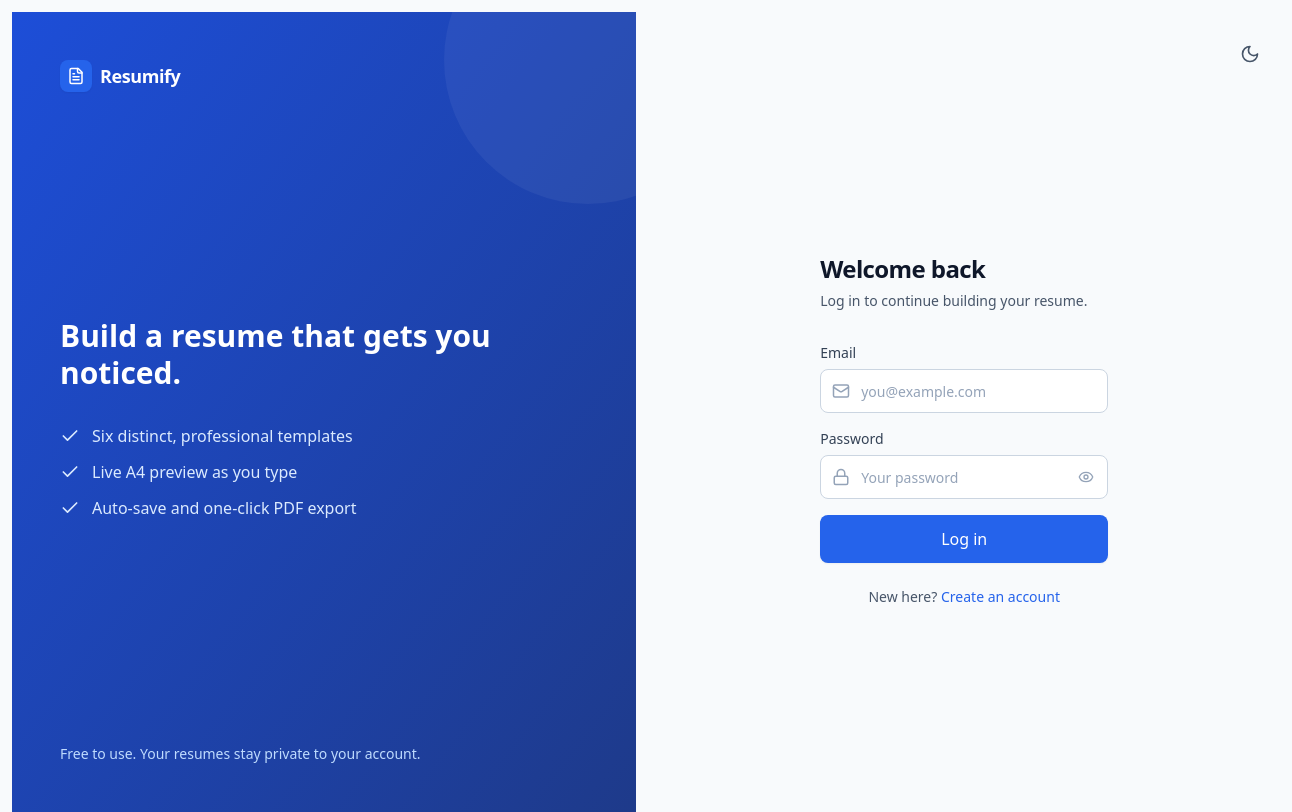
Test: auth forms › login stores the token and redirects on success
The image size is (1292, 812).
Type "uyn@example.com" into the field labelled "Email" at (964, 391), box [820,369,1108,413]
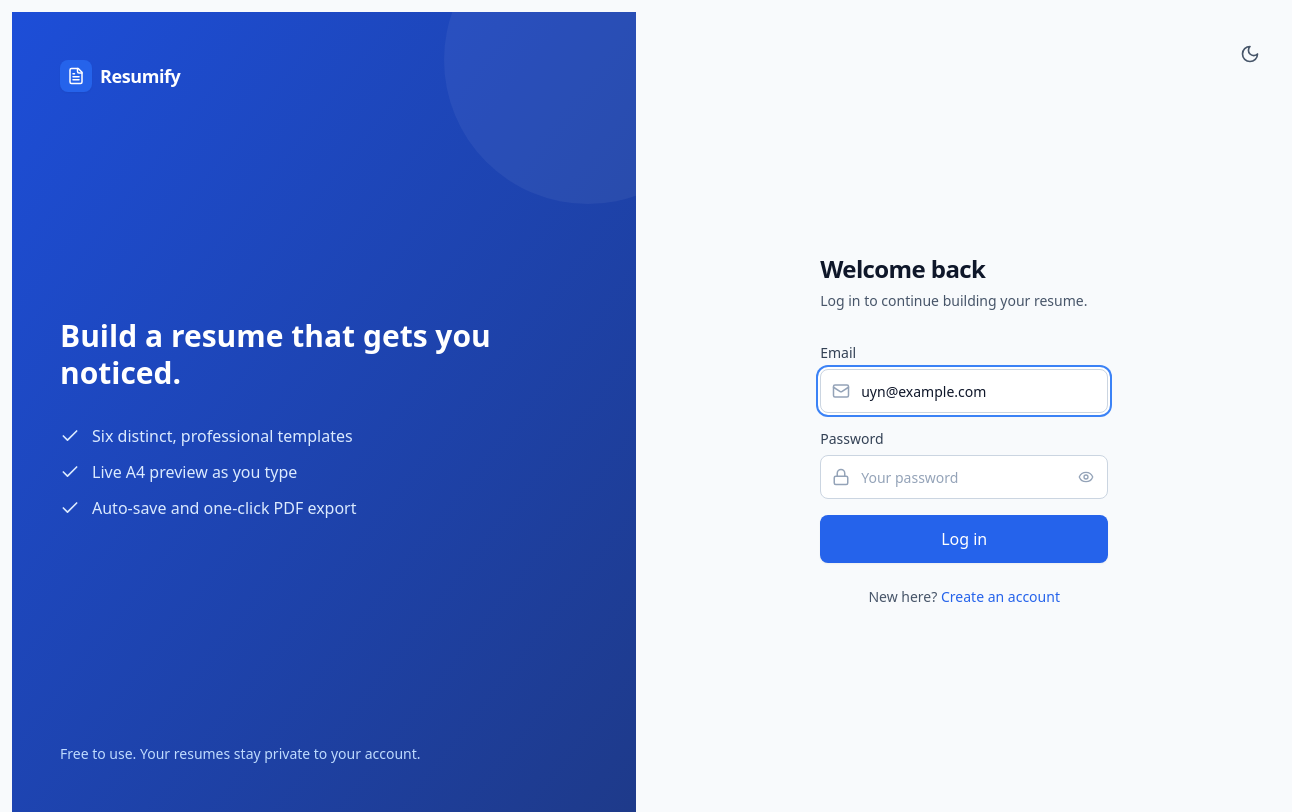
Type "goodpass1" into the password field labelled "Password" at (964, 477), box [820,455,1108,499]
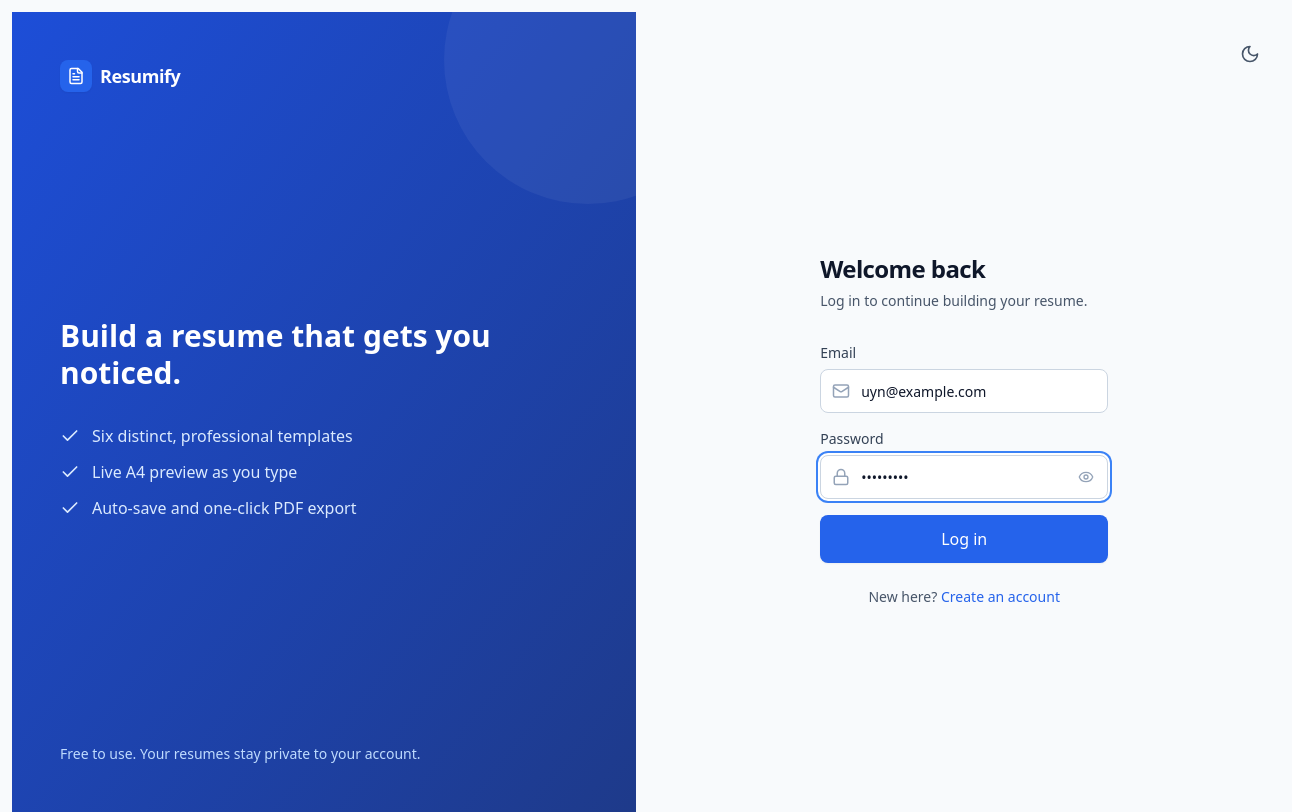
Click the button "Log in" at (964, 539), box [820,515,1108,563]
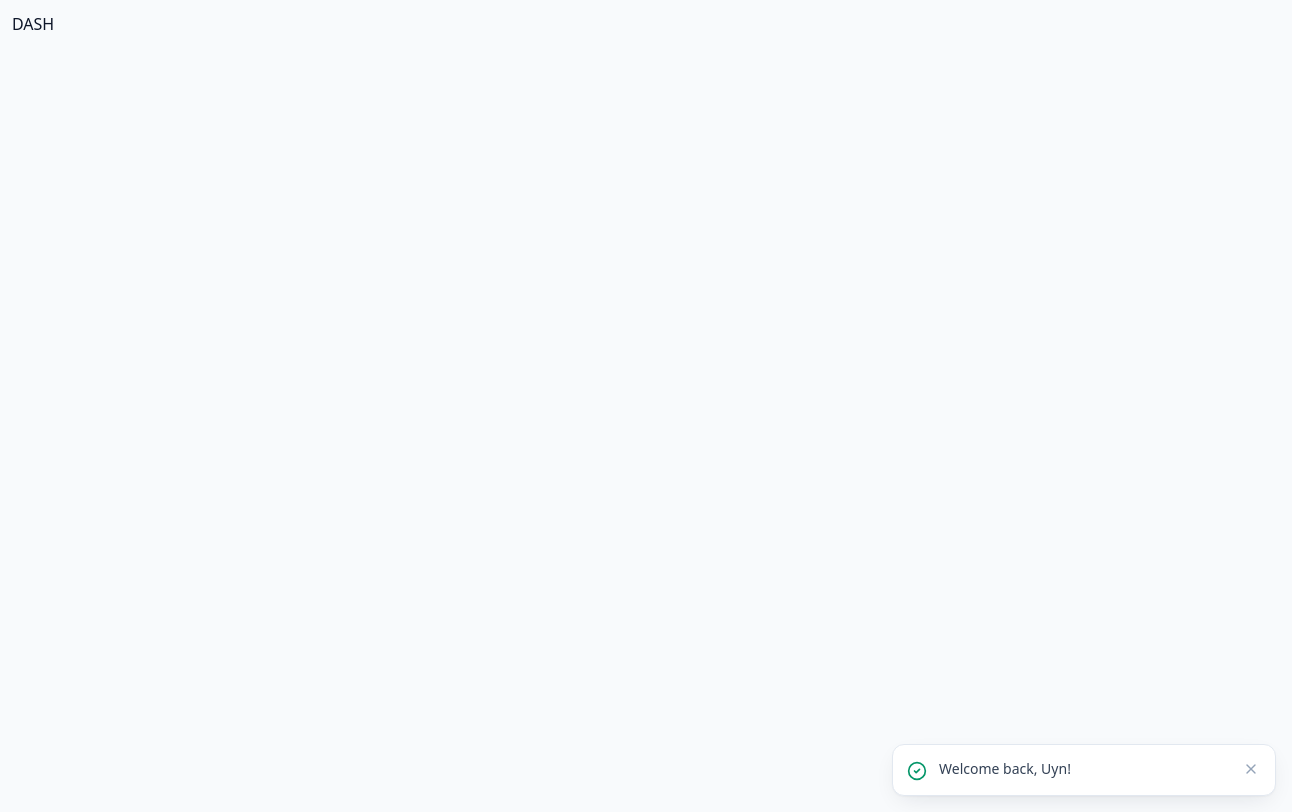
Expected: the text "DASH" is shown, [12,13,54,35]
